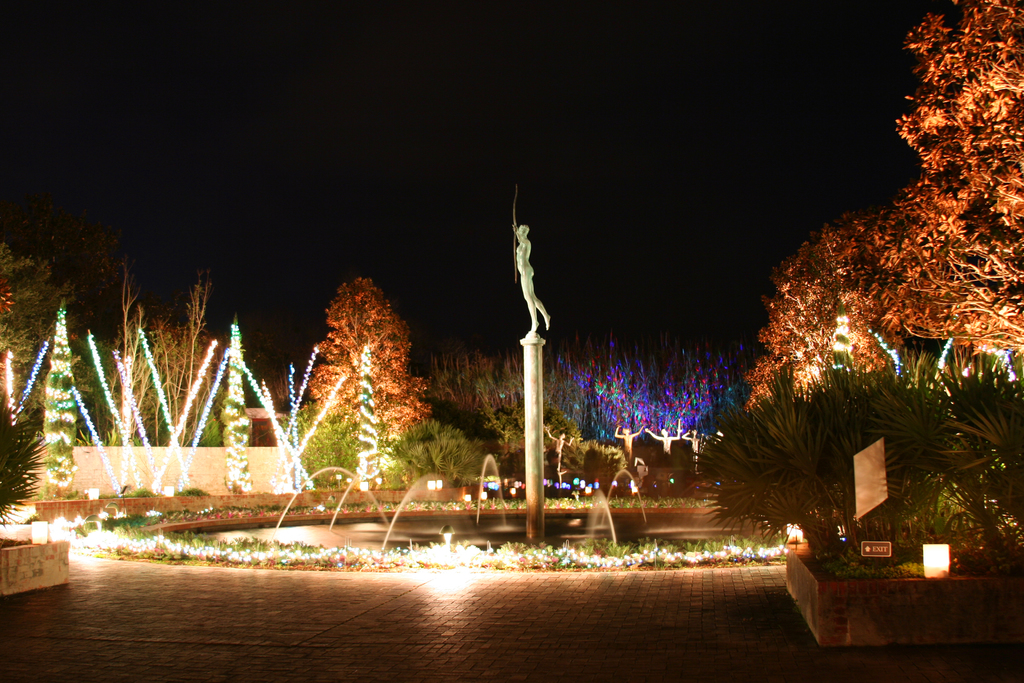Tree: (0, 0, 1023, 559)
